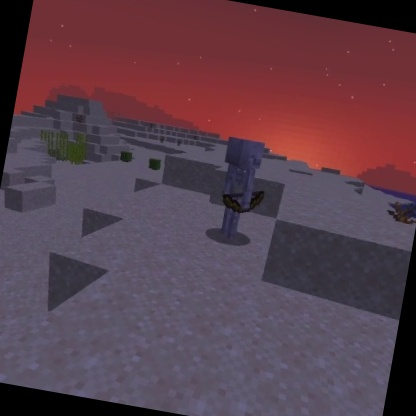skeleton: (208, 132, 277, 246)
